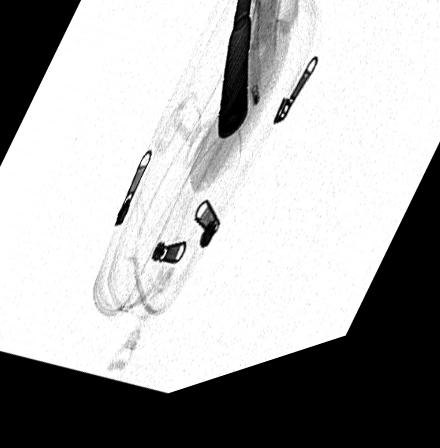Bullet: (215, 0, 252, 154)
